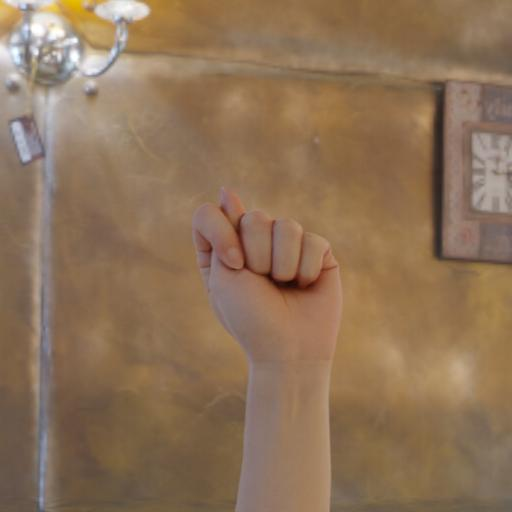T: (156, 170, 385, 434)
